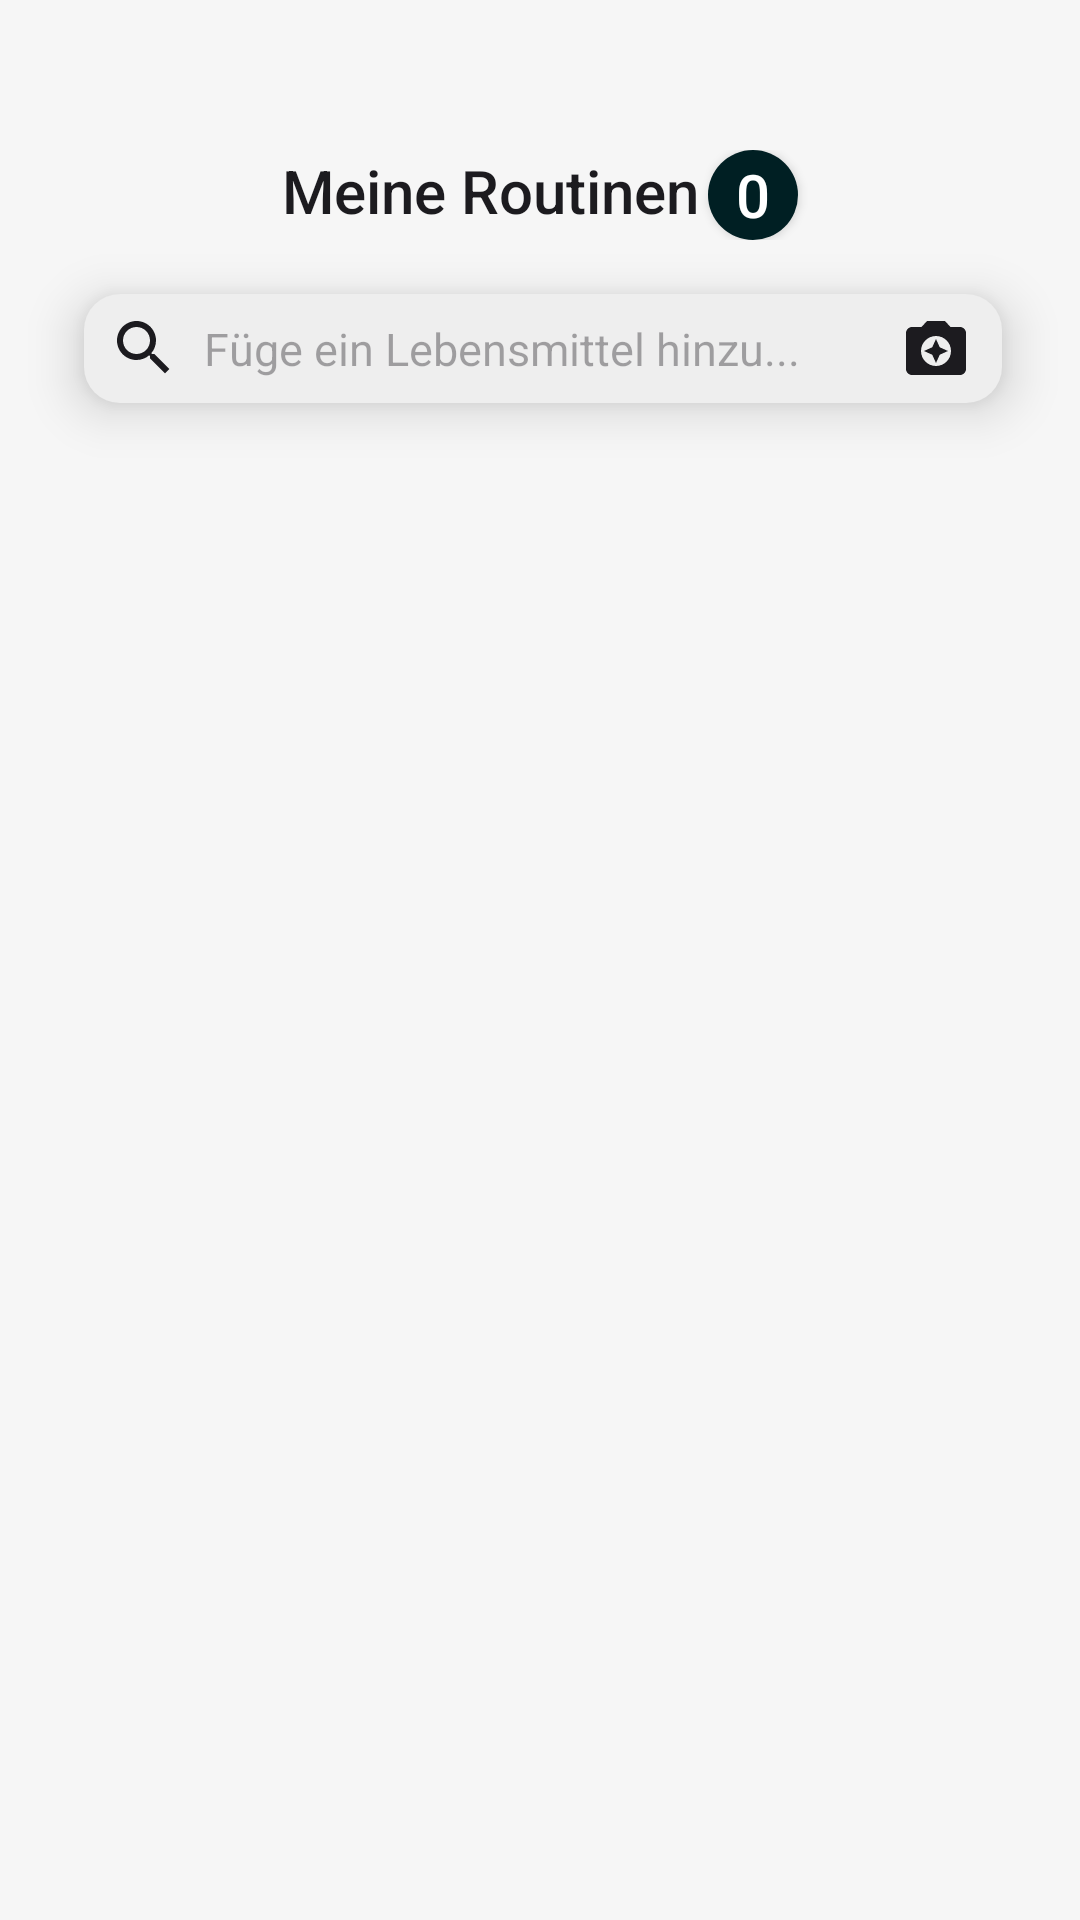

Where to tap for icons on this 1080w x 1920h app screen, as (x=x, y=y):
Camera Icon: (x=936, y=348)
Search Icon: (x=143, y=347)
